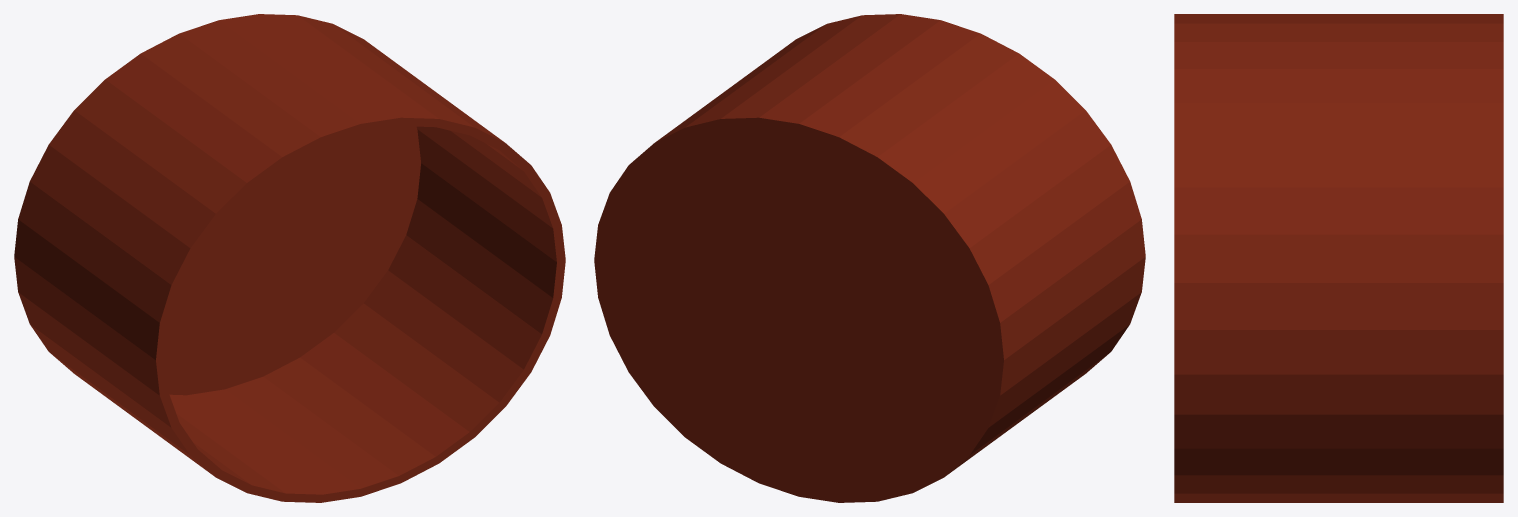
Rendered from PotCollision.obj.
3 renders of one model, left to right at view 1: azimuth 30°, elevation 25°; view 2: azimuth 150°, elevation 25°; view 3: azimuth 270°, elevation 25°, orthographic. The views are drawn at different scales.
Size of the model in its own units: 0.2266 by 0.197 by 0.1357.
